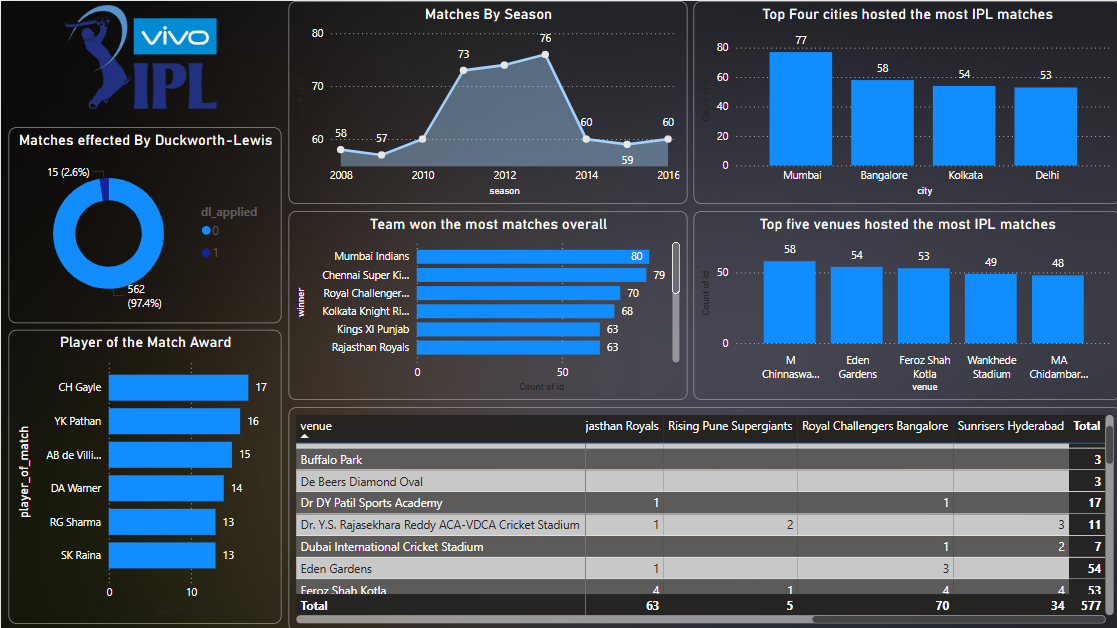

The dashboard page shown, as its layout file describes it:
{"tool":"powerbi","page":{"name":"Page 1","canvas":[1280,720],"ordinal":0},"visuals":[{"type":"image","box":[0,0,320,128],"z":0},{"type":"areaChart","title":"Matches By Season","fields":{"Category":["IPL_dataset_practice_set_10.season"],"Y":["IPL_dataset_practice_set_10.id"]},"box":[328,0,456,232],"z":1000},{"type":"clusteredBarChart","title":"Team won the most matches overall","fields":{"Category":["IPL_dataset_practice_set_10.winner"],"Y":["IPL_dataset_practice_set_10.id"]},"box":[328,240,456,216],"z":2000},{"type":"columnChart","title":"Top Four cities hosted the most IPL matches","fields":{"Category":["IPL_dataset_practice_set_10.city"],"Y":["IPL_dataset_practice_set_10.id"]},"box":[792,0,488,232],"z":3000},{"type":"clusteredBarChart","title":"Player of the Match Award","fields":{"Category":["IPL_dataset_practice_set_10.player_of_match"],"Y":["IPL_dataset_practice_set_10.id"]},"box":[8,376,312,336],"z":4000},{"type":"donutChart","title":"Matches effected By Duckworth-Lewis","fields":{"Category":["IPL_dataset_practice_set_10.dl_applied"],"Y":["IPL_dataset_practice_set_10.id"]},"box":[8,144,312,224],"z":5000},{"type":"pivotTable","title":"Matches By Season","fields":{"Values":["IPL_dataset_practice_set_10.id"],"Rows":["IPL_dataset_practice_set_10.venue"],"Columns":["IPL_dataset_practice_set_10.winner"]},"box":[328,464,952,256],"z":6000},{"type":"columnChart","title":"Top five venues hosted the most IPL matches","fields":{"Y":["IPL_dataset_practice_set_10.id"],"Category":["IPL_dataset_practice_set_10.venue"]},"box":[792,240,488,216],"z":7000}]}

Visuals, with their boxes in screenshot pixels (x1, y1, x2, y2), scaled from the page's 1280x720 canvas onto the 1117x628 screenshot:
image: detection(0, 0, 279, 112)
"Matches By Season" areaChart: detection(286, 0, 684, 202)
"Team won the most matches overall" clusteredBarChart: detection(286, 209, 684, 398)
"Top Four cities hosted the most IPL matches" columnChart: detection(691, 0, 1116, 202)
"Player of the Match Award" clusteredBarChart: detection(7, 328, 279, 621)
"Matches effected By Duckworth-Lewis" donutChart: detection(7, 126, 279, 321)
"Matches By Season" pivotTable: detection(286, 405, 1116, 627)
"Top five venues hosted the most IPL matches" columnChart: detection(691, 209, 1116, 398)
